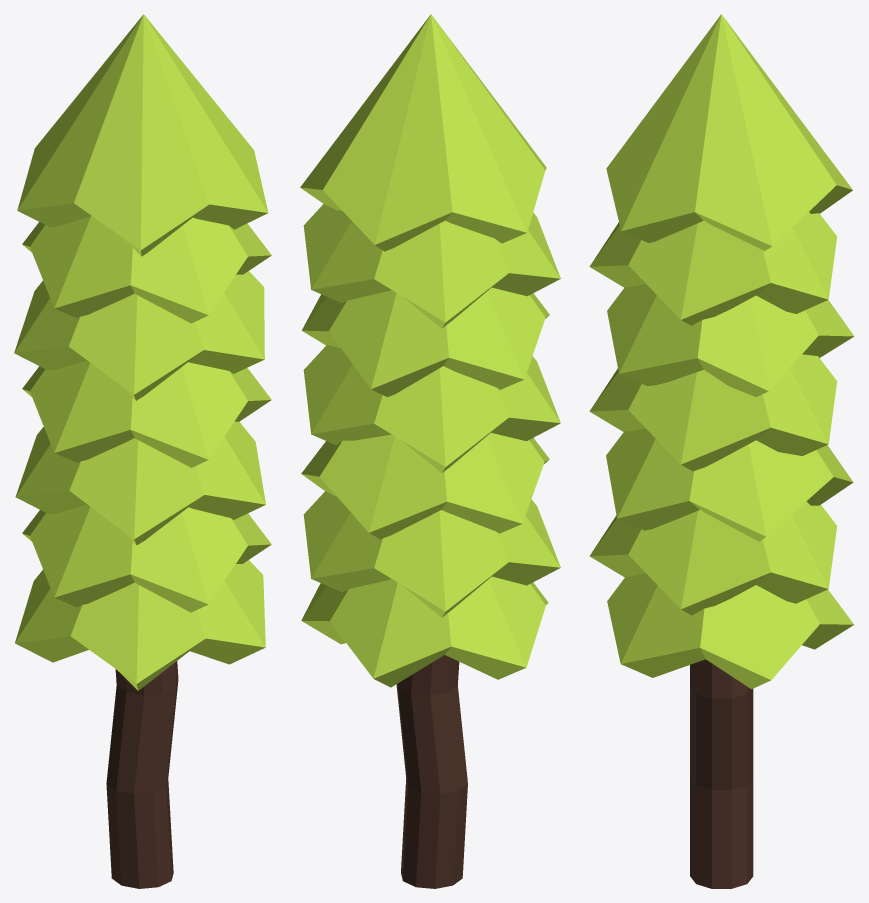
File: Xmas_Tree.fbx
3 renders of one model, left to right at view 1: azimuth 30°, elevation 25°; view 2: azimuth 150°, elevation 25°; view 3: azimuth 270°, elevation 25°, orthographic.
Parts seen in each view (by area): view 1: Xmas_Tree; view 2: Xmas_Tree; view 3: Xmas_Tree.
Part boxes in pixels (x1=…): Xmas_Tree: x1=14, y1=14, x2=271, y2=888; Xmas_Tree: x1=300, y1=14, x2=560, y2=888; Xmas_Tree: x1=589, y1=14, x2=854, y2=888.
Size of the model in its own units: 180 by 669 by 186.
